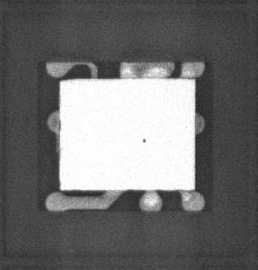DIE_INK: (135, 143, 140, 150)
